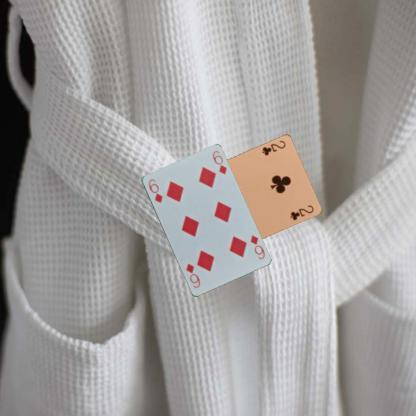2c: (260, 138, 286, 157)
6d: (247, 232, 266, 261), (146, 176, 164, 204)
